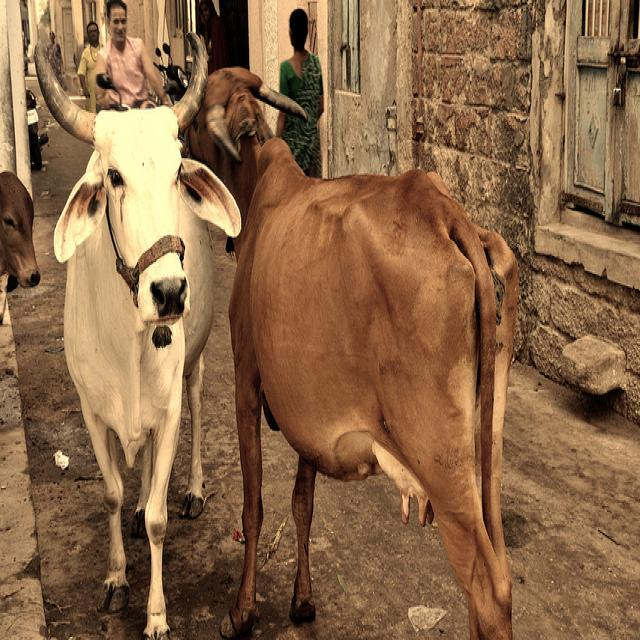motor: (25, 87, 51, 176)
